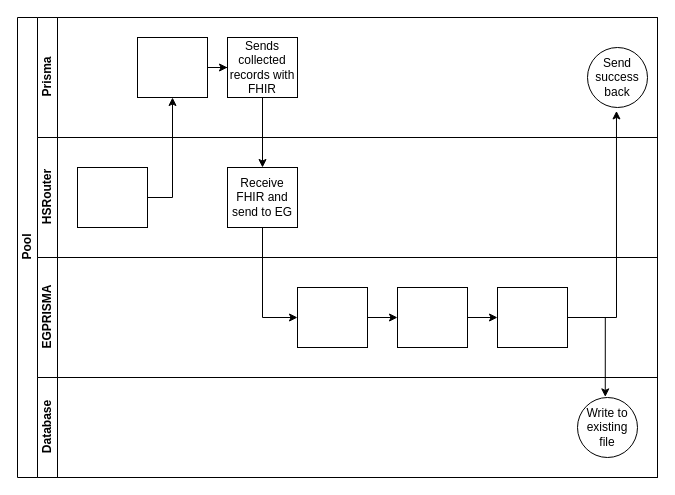
Some shapes in this 675 by 495 pixel diagram are drawn without their labels. The shapes that lost their labels are listed below. From the top down, each one's centre as x and y in pixels, then its label:
[172,67]: Receive request, starts process
[112,197]: Make request for Billing Data
[332,317]: Transform FHIR to Dynamic Object
[432,317]: Transform and normalize data
[532,317]: Format data into Excel
